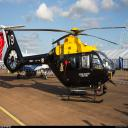helicopter: (1, 24, 127, 104)
